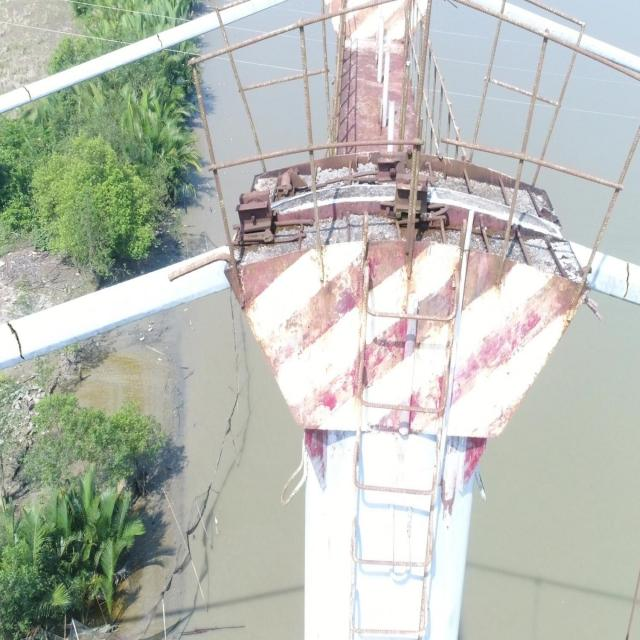crack: (6, 322, 26, 361), (623, 262, 630, 299), (22, 85, 32, 103), (156, 33, 164, 49)
